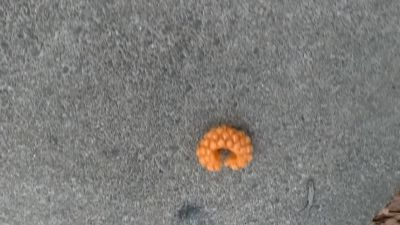eggs: (196, 124, 254, 172)
